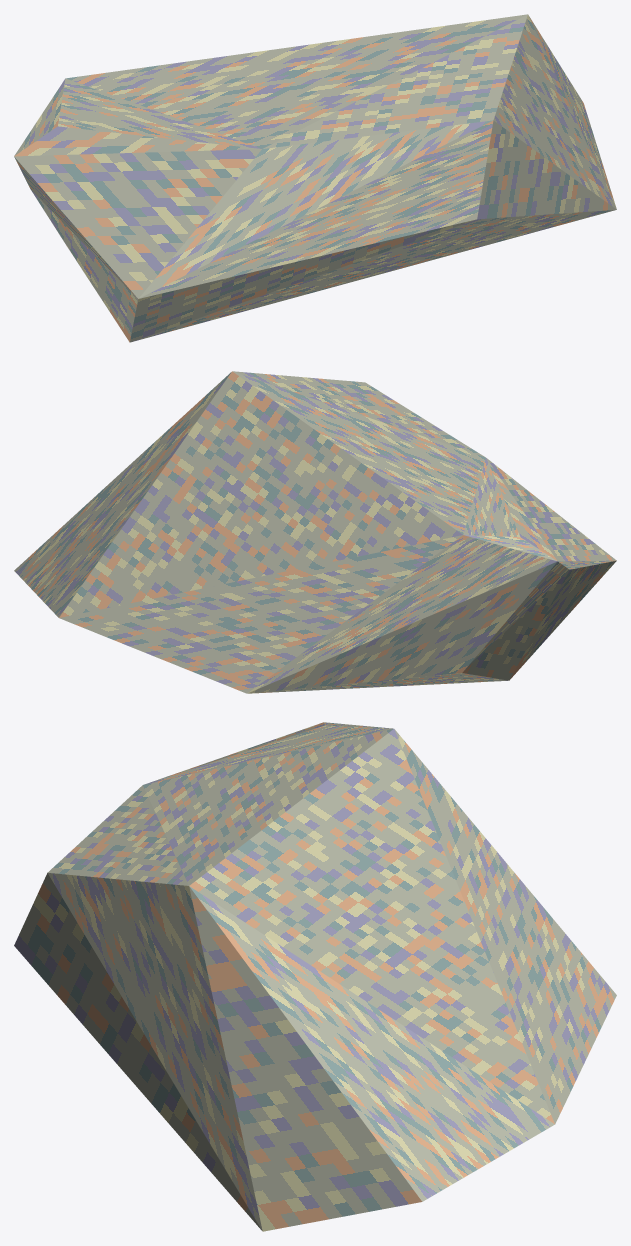
File: opal.glb
The picture shows the model from 3 angles, top to bottom: view 1: azimuth 30°, elevation 25°; view 2: azimuth 150°, elevation 25°; view 3: azimuth 270°, elevation 25°; orthographic projection. The views are drawn at different scales.
Parts seen in each view (by area): view 1: block_polished opal; view 2: block_polished opal; view 3: block_polished opal.
Boxes of the visible parts, left/top/right/bottom form: block_polished opal: left=14, top=14, right=616, bottom=342; block_polished opal: left=14, top=371, right=616, bottom=693; block_polished opal: left=14, top=722, right=616, bottom=1231.
Bounding box in the file's own units: 0.0345 × 0.0141 × 0.0262.
Materials: 1 (1 with a texture image).
